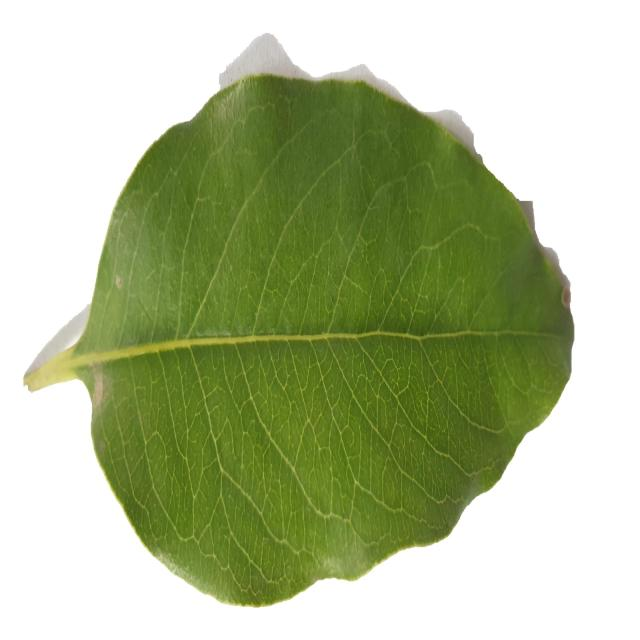Medicinal-Sandalwood: (23, 74, 574, 608)
